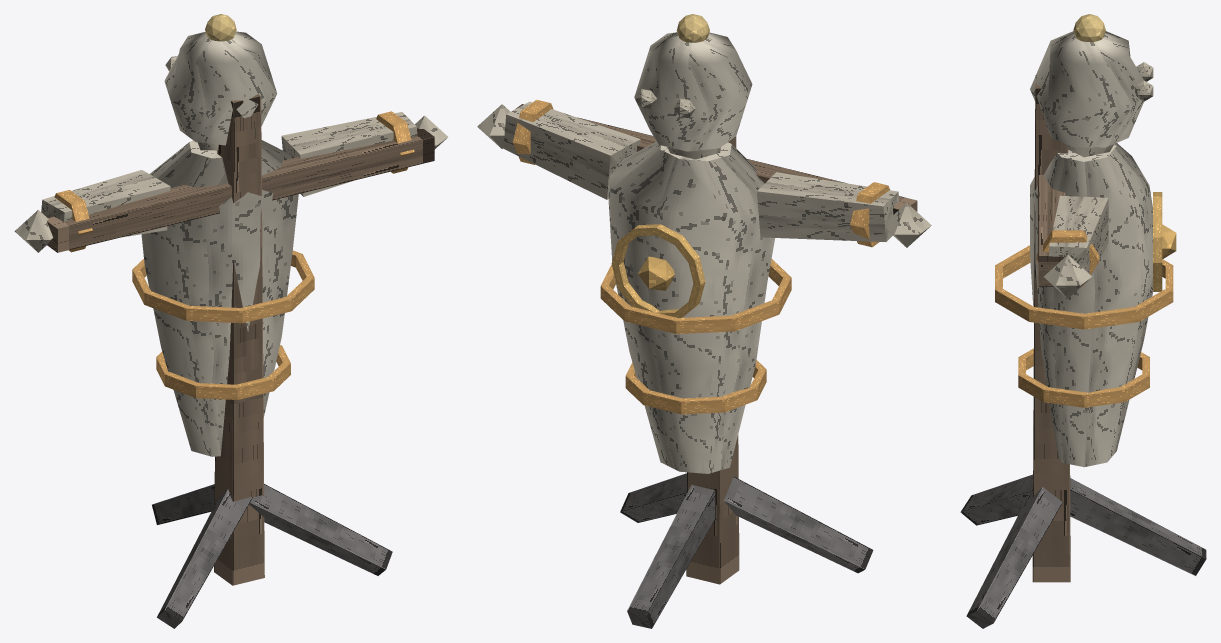
File: enemy_effigy.gltf
The picture shows the model from 3 angles, left to right: view 1: azimuth 30°, elevation 25°; view 2: azimuth 150°, elevation 25°; view 3: azimuth 270°, elevation 25°; orthographic projection. The views are drawn at different scales.
Parts seen in each view (by area): view 1: post, figure, head, binds, wick; view 2: figure, post, head, binds, sigil, wick; view 3: figure, post, head, binds, sigil, wick.
Boxes of the visible parts, left/top/right/bottom form: post: left=47, top=94, right=434, bottom=628; figure: left=14, top=112, right=447, bottom=456; head: left=164, top=31, right=277, bottom=150; binds: left=54, top=111, right=414, bottom=399; wick: left=205, top=14, right=236, bottom=41; figure: left=477, top=101, right=931, bottom=473; post: left=516, top=104, right=917, bottom=628; head: left=634, top=32, right=752, bottom=159; binds: left=512, top=99, right=889, bottom=414; sigil: left=611, top=224, right=705, bottom=317; wick: left=676, top=14, right=709, bottom=42; figure: left=1030, top=143, right=1152, bottom=467; post: left=960, top=75, right=1206, bottom=628; head: left=1030, top=31, right=1153, bottom=157; binds: left=995, top=230, right=1173, bottom=407; sigil: left=1153, top=192, right=1176, bottom=291; wick: left=1073, top=14, right=1105, bottom=41.
Size of the model in its own units: 1.84 by 2.28 by 0.9059.
6 materials, 6 textured.
